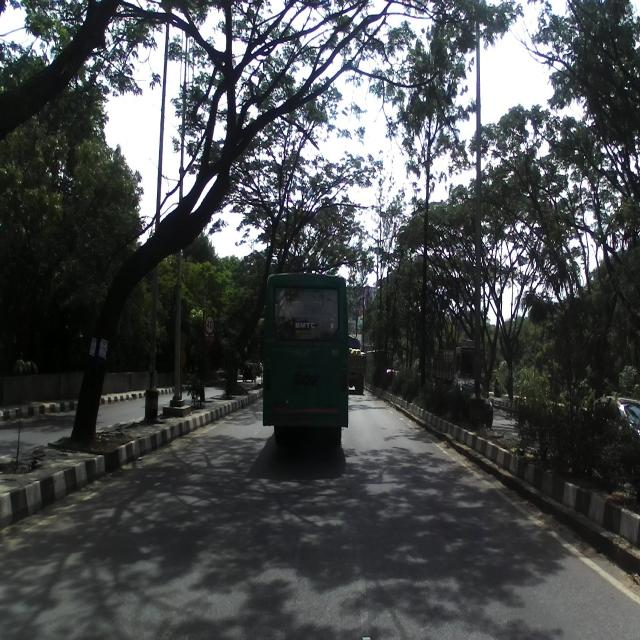bus: (262, 268, 350, 466)
